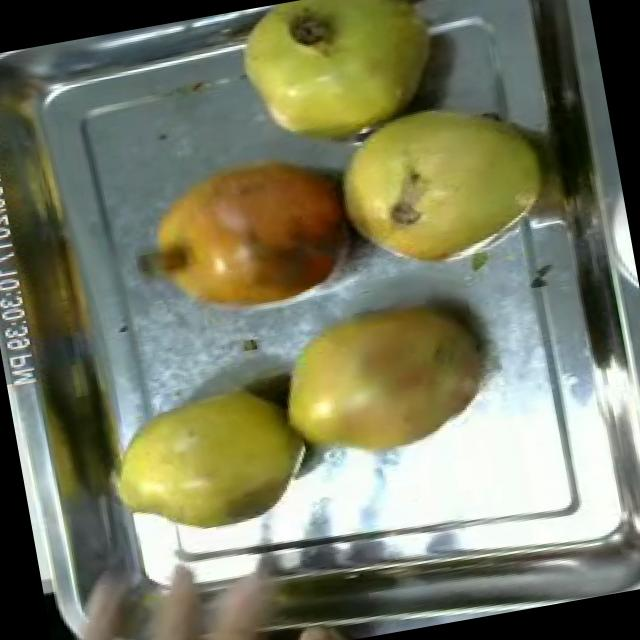fruit: (311, 69, 580, 309), (120, 127, 374, 340), (256, 276, 514, 480), (90, 365, 332, 553), (211, 0, 468, 174), (278, 610, 368, 640)
